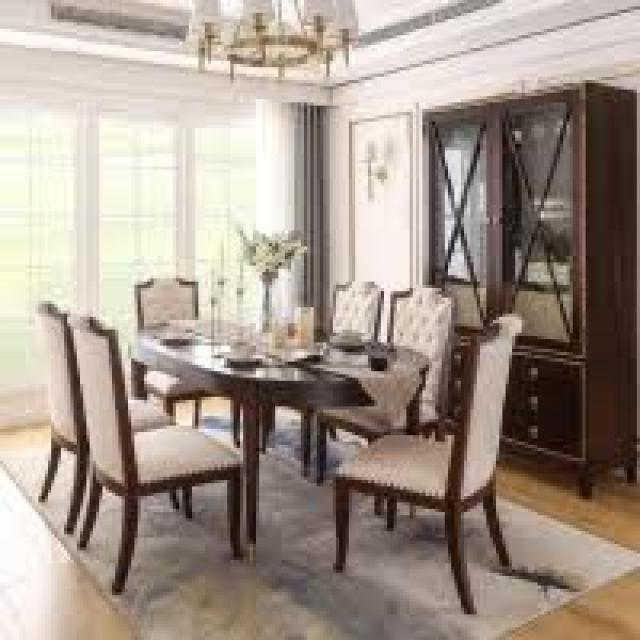table: (29, 270, 542, 608)
